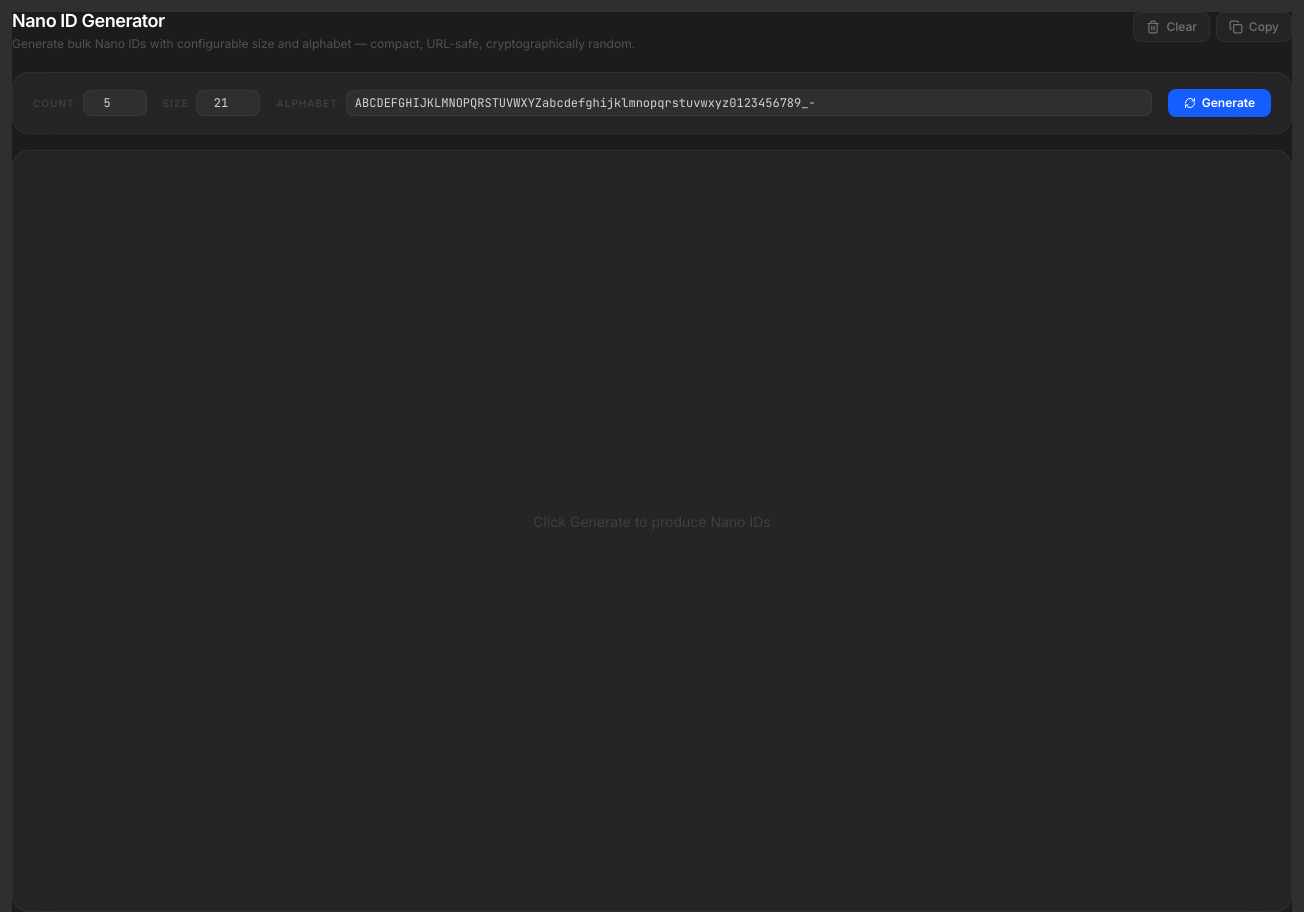
Test: NanoIdGenerator › generates IDs of default size 21 when Generate is clicked
Click the button "Generate": click(1219, 103) top-left (1168, 89), bottom-right (1271, 117)
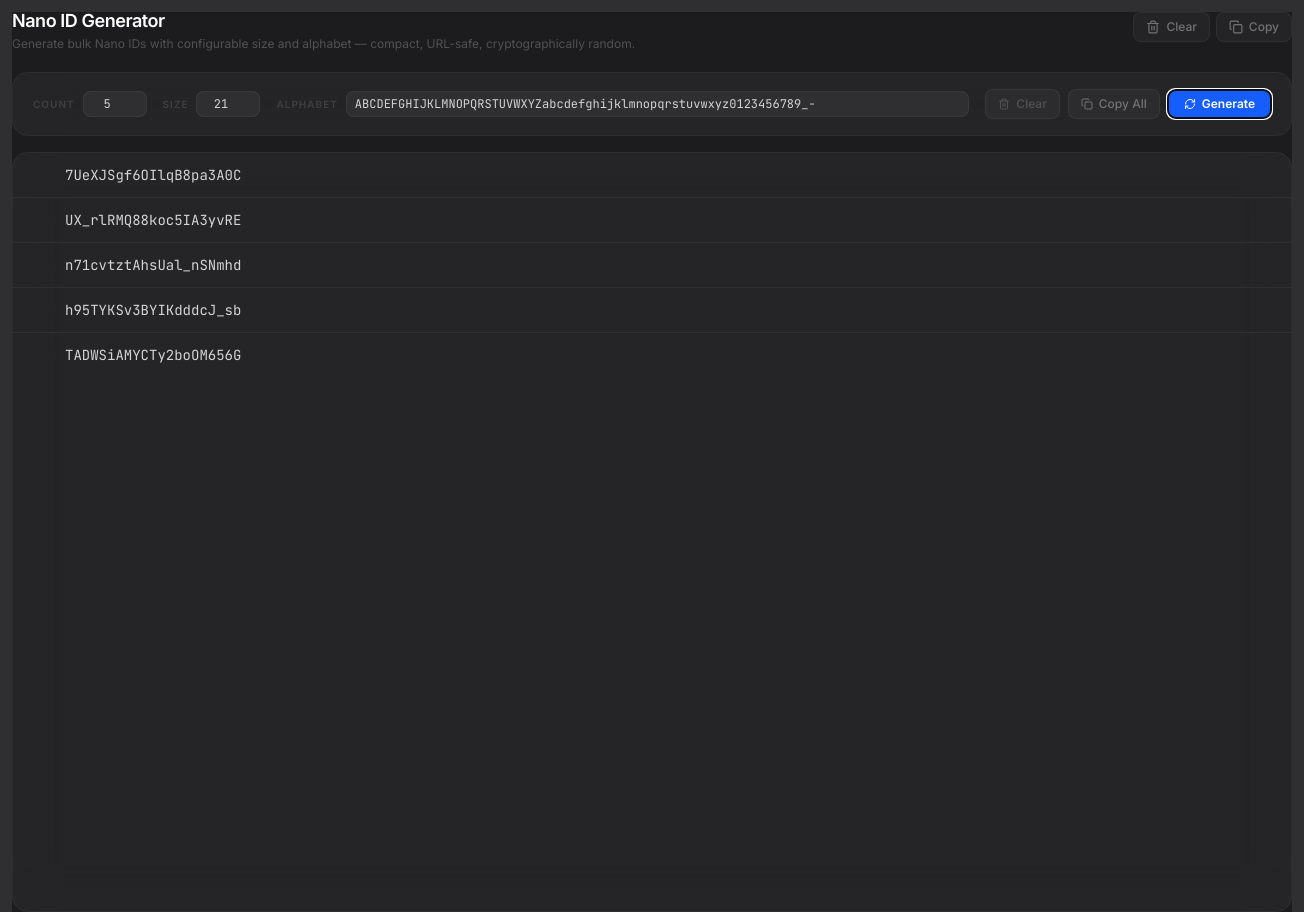
Result: the number of list items is 5 at top-left (13, 153), bottom-right (1291, 198); top-left (13, 198), bottom-right (1291, 243); top-left (13, 243), bottom-right (1291, 288); top-left (13, 288), bottom-right (1291, 333); top-left (47, 346), bottom-right (241, 364)
